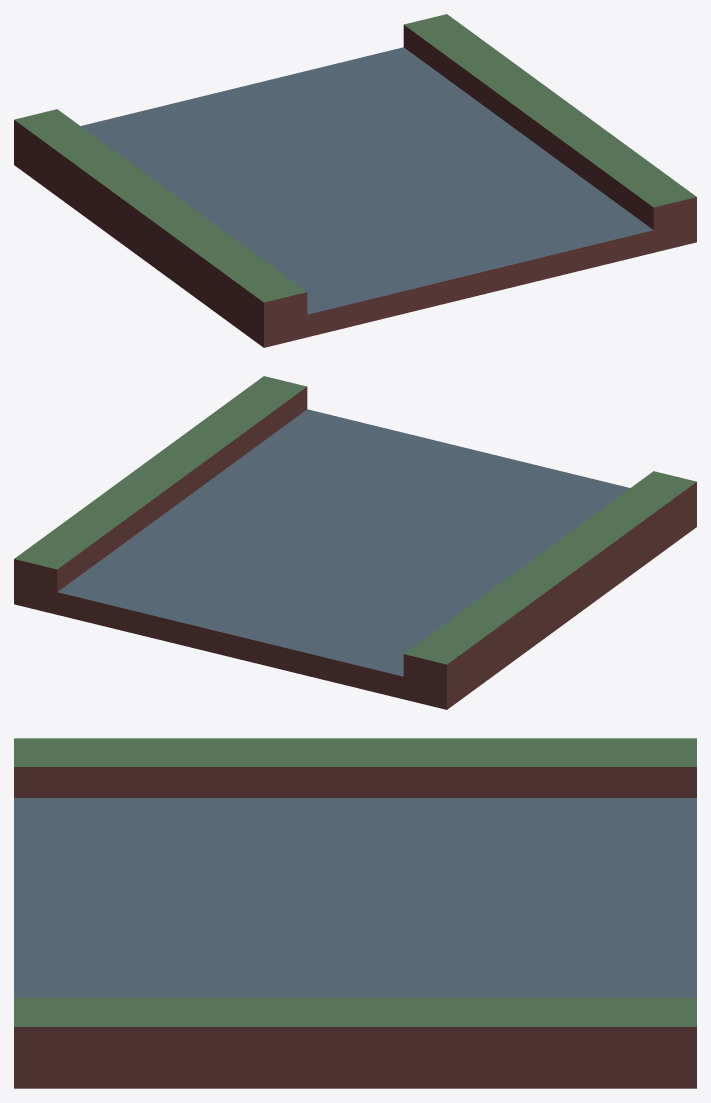
Rendered from tile-water.fbx.
The picture shows the model from 3 angles, top to bottom: view 1: azimuth 30°, elevation 25°; view 2: azimuth 150°, elevation 25°; view 3: azimuth 270°, elevation 25°; orthographic projection. The views are drawn at different scales.
Visible parts, largest first — view 1: tile_water; view 2: tile_water; view 3: tile_water.
Part boxes in pixels (<box>): tile_water: <box>14,14,696,347</box>; tile_water: <box>14,376,696,709</box>; tile_water: <box>14,738,696,1088</box>.
Size of the model in its own units: 100 by 10 by 100.
